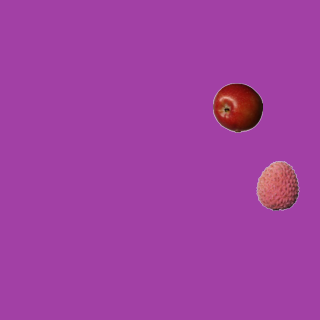Apple Braeburn: (212, 82, 262, 132)
Lychee: (252, 160, 302, 210)
